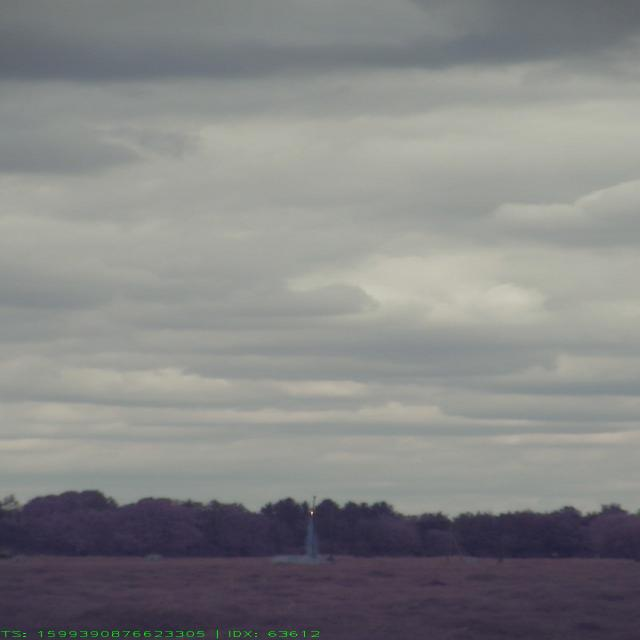Rocket: (310, 496, 318, 512)
